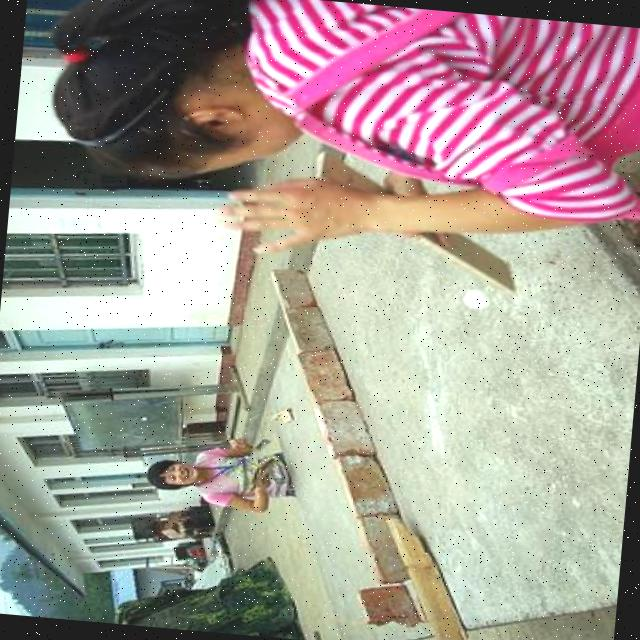ping-pong-ball: (458, 286, 491, 311)
